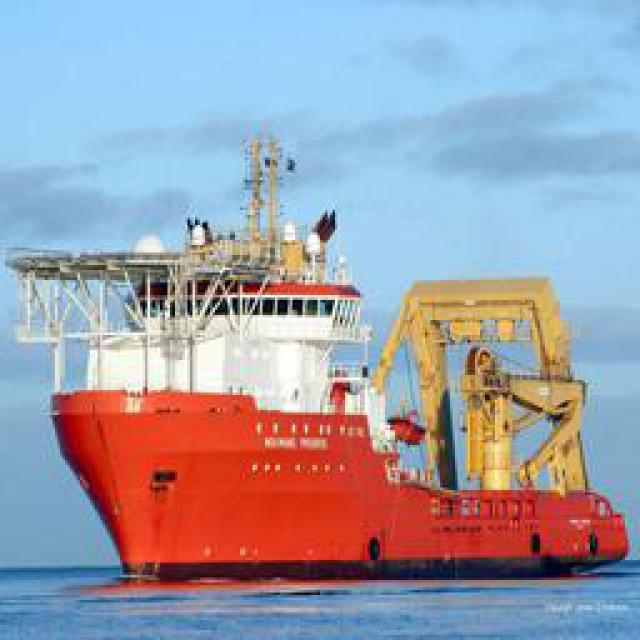Ship: (42, 237, 636, 582)
